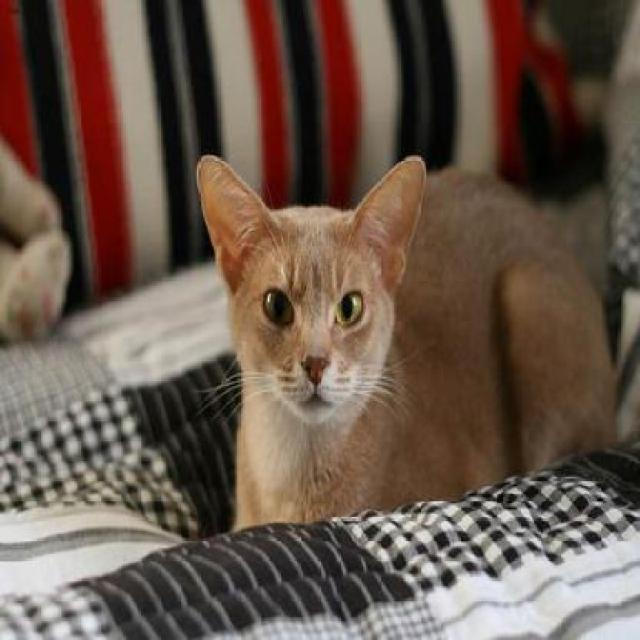cat: (194, 154, 618, 528)
